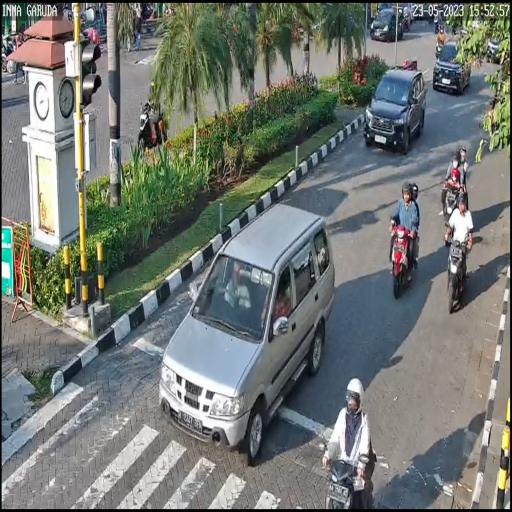mobil: (156, 195, 336, 466), (364, 66, 428, 156), (434, 33, 468, 103)
motor: (388, 210, 422, 298), (442, 223, 473, 316), (440, 165, 468, 228)
